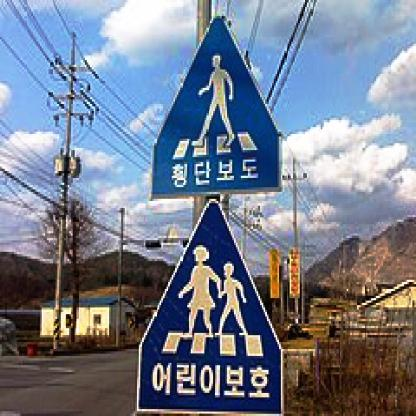Pedestrian Crossing: (111, 14, 299, 206), (121, 223, 300, 416)
